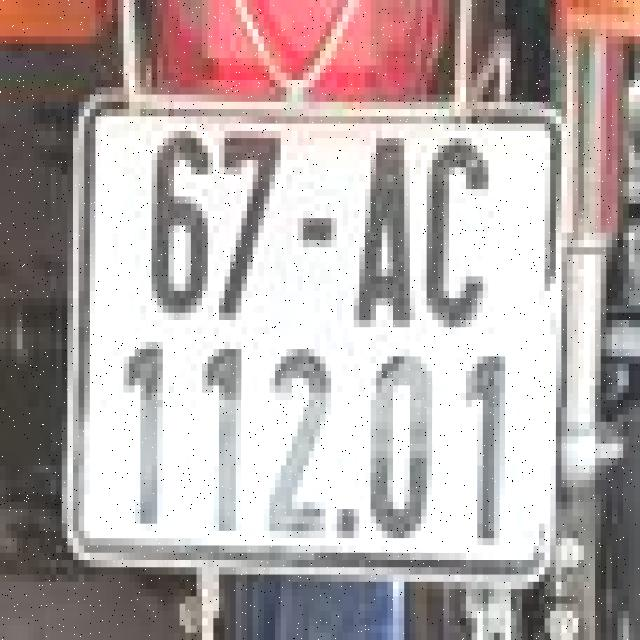0: (362, 345, 441, 542)
1: (458, 349, 520, 553), (118, 334, 180, 531), (196, 338, 252, 535)
2: (264, 342, 331, 545)
6: (149, 128, 216, 316)
7: (214, 124, 286, 327)
A: (354, 135, 416, 338)
C: (424, 127, 491, 331)
